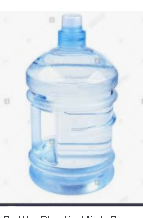Bottle: (28, 12, 118, 192)
